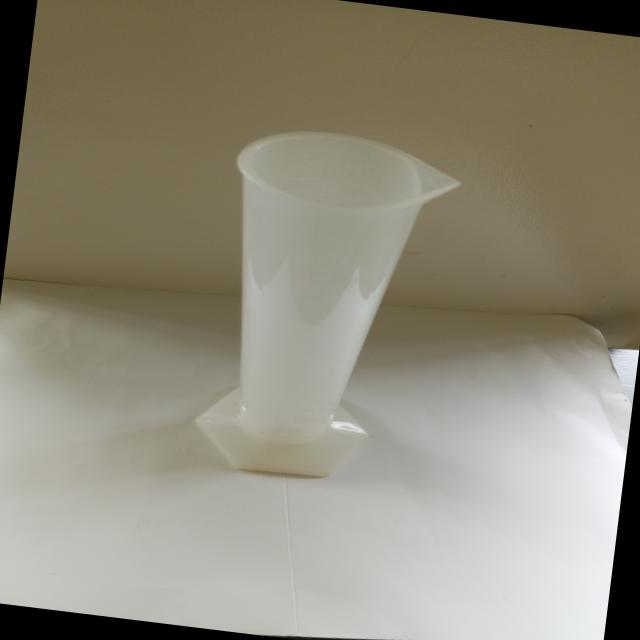graduated_cylinder: (182, 116, 469, 502)
